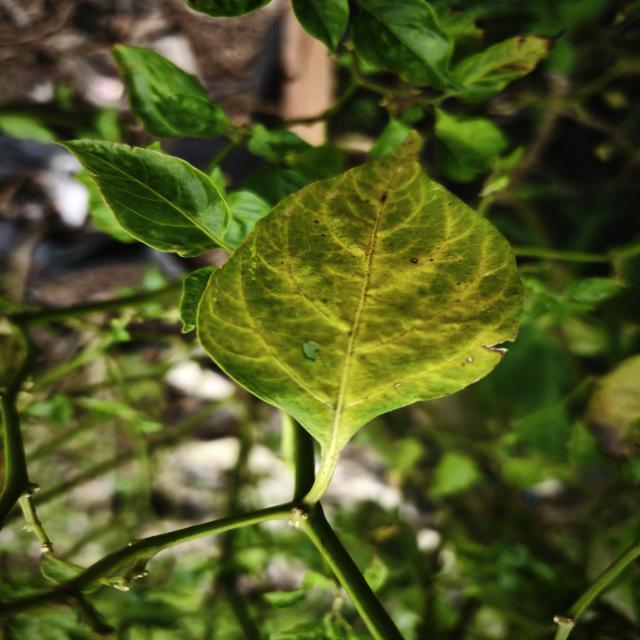Virus Kuning: (188, 129, 526, 448), (58, 132, 231, 258)
